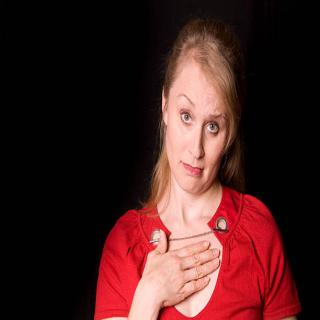Please: (144, 222, 222, 300)
